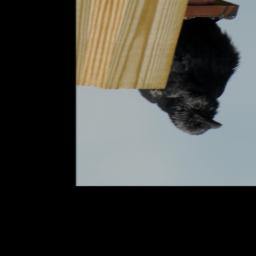Crow: (132, 5, 251, 140)
